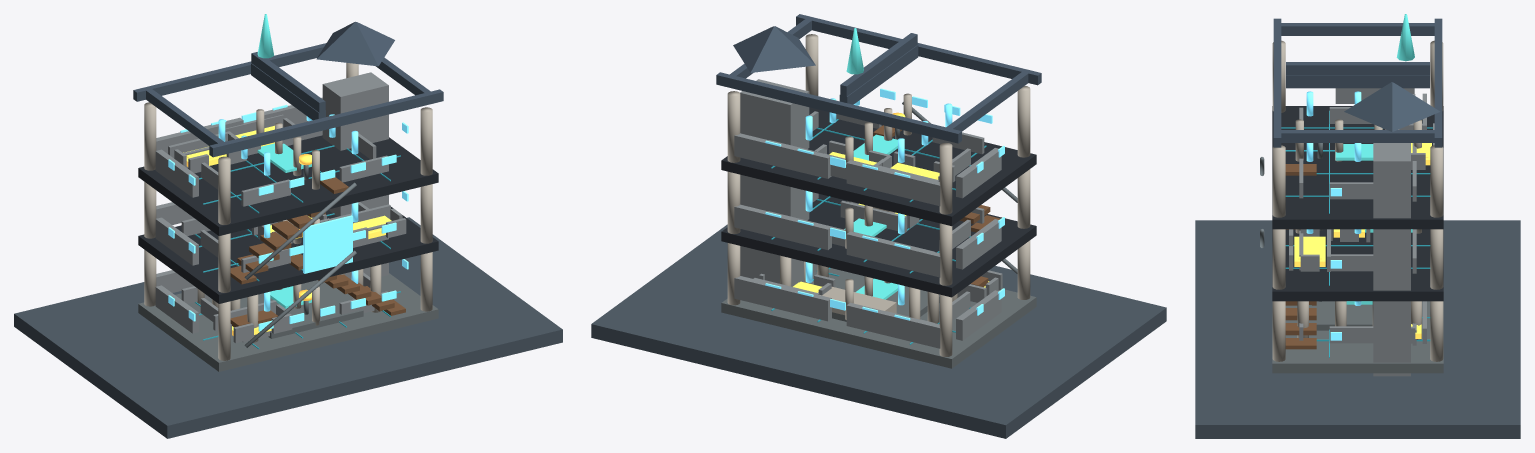
3 views of the same model, side by side, from view 1: azimuth 30°, elevation 25°; view 2: azimuth 150°, elevation 25°; view 3: azimuth 270°, elevation 25° (orthographic). The views are drawn at different scales.
Visible parts, largest first — view 1: ProfileGround.009, BuildingFloor_3.003, BuildingFloor_1.005, BuildingFloor_2.005, BellTower_visual_church, RoofEaveSouth_visual_church, ChurchRoseWindow_visual_church, BellRoof_visual_church, RoofEaveNorth_visual_church, Nave_visual_church, RoofRidge_visual_church, RoofEaveWest_visual_church (+22 smaller); view 2: ProfileGround.009, BuildingFloor_3.003, BuildingFloor_2.005, BellTower_visual_church, BuildingFloor_1.005, RoofEaveNorth_visual_church, RoofEaveSouth_visual_church, BellRoof_visual_church, BackWall_1_1.005, BackWall_2_1.005, BackWall_3_1.003, BackWall_1_-1.005 (+21 smaller); view 3: ProfileGround.009, BuildingFloor_3.003, BellTower_visual_church, BuildingFloor_2.005, BuildingFloor_1.005, BellRoof_visual_church, RoofRidge_visual_church, RoofEaveEast_visual_church, NaveSpine_visual_church, RoofEaveWest_visual_church, Nave_visual_church, RoofEaveSouth_visual_church (+23 smaller).
Part boxes in pixels (x1,y1,x2,y2): ProfileGround.009: [14, 217, 562, 438]; BuildingFloor_3.003: [138, 135, 438, 235]; BuildingFloor_1.005: [138, 273, 438, 371]; BuildingFloor_2.005: [138, 207, 438, 303]; BellTower_visual_church: [322, 72, 388, 279]; RoofEaveSouth_visual_church: [209, 89, 443, 157]; ChurchRoseWindow_visual_church: [303, 215, 352, 273]; BellRoof_visual_church: [316, 21, 394, 66]; RoofEaveNorth_visual_church: [133, 43, 326, 101]; Nave_visual_church: [240, 280, 363, 338]; RoofRidge_visual_church: [251, 52, 325, 115]; RoofEaveWest_visual_church: [146, 89, 223, 145]; ProfileGround.009: [591, 224, 1166, 438]; BuildingFloor_3.003: [721, 107, 1036, 226]; BuildingFloor_2.005: [721, 194, 1036, 297]; BellTower_visual_church: [740, 79, 809, 286]; BuildingFloor_1.005: [721, 268, 1036, 368]; RoofEaveNorth_visual_church: [716, 72, 961, 143]; RoofEaveSouth_visual_church: [796, 14, 1041, 85]; BellRoof_visual_church: [733, 26, 815, 72]; BackWall_1_1.005: [734, 276, 831, 321]; BackWall_2_1.005: [734, 204, 831, 249]; BackWall_3_1.003: [734, 133, 831, 178]; BackWall_1_-1.005: [846, 302, 940, 348]; ProfileGround.009: [1195, 220, 1520, 438]; BuildingFloor_3.003: [1272, 106, 1443, 229]; BellTower_visual_church: [1373, 143, 1410, 376]; BuildingFloor_2.005: [1272, 229, 1443, 301]; BuildingFloor_1.005: [1272, 301, 1443, 373]; BellRoof_visual_church: [1344, 82, 1440, 131]; RoofRidge_visual_church: [1286, 62, 1429, 75]; RoofEaveEast_visual_church: [1281, 130, 1434, 142]; NaveSpine_visual_church: [1286, 75, 1429, 88]; RoofEaveWest_visual_church: [1281, 23, 1434, 35]; Nave_visual_church: [1296, 301, 1372, 330]; RoofEaveSouth_visual_church: [1273, 18, 1281, 147].
Size of the model in its own units: 6.34 by 4.65 by 4.26.
